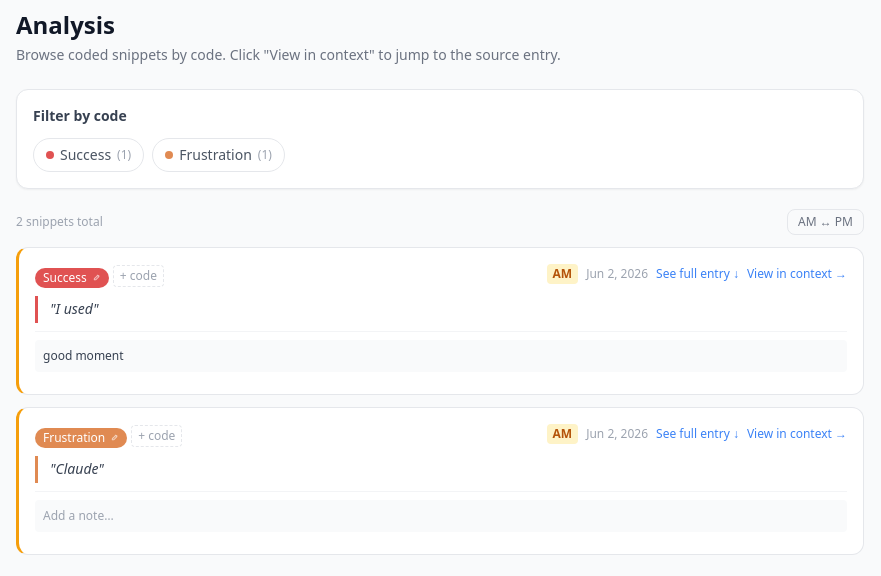
Test: AnalysisView – basic filtering › shows Any/All toggle only when two or more codes are selected
This screenshot has width=881, height=576.
Click the button "Success (1)": (89, 155) [33,138,144,172]
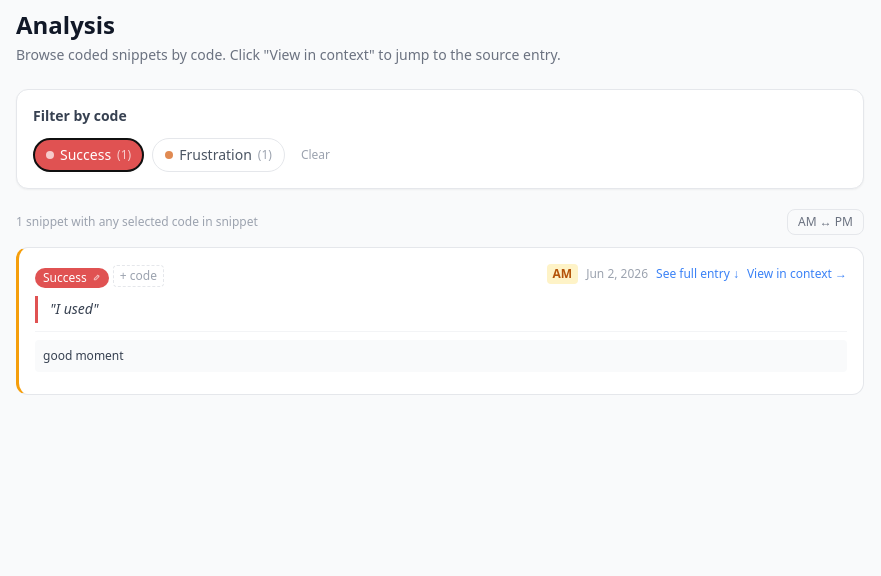
Expected: the button "any code" is not shown
Click the button "Frustration (1)": (219, 155) [152,138,285,172]
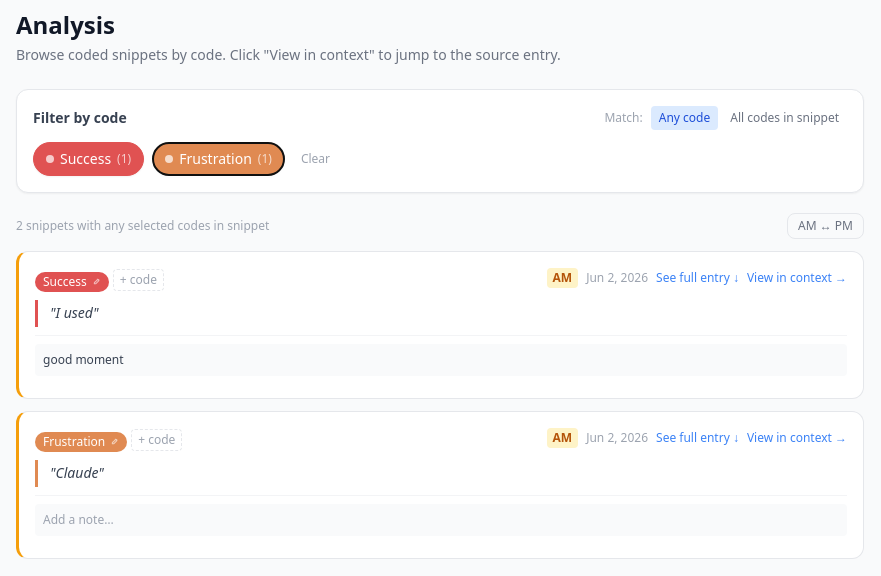
Now the button "Any code" is shown, box [651,106,718,130]
Now the button "All codes in snippet" is shown, box [722,106,847,130]
